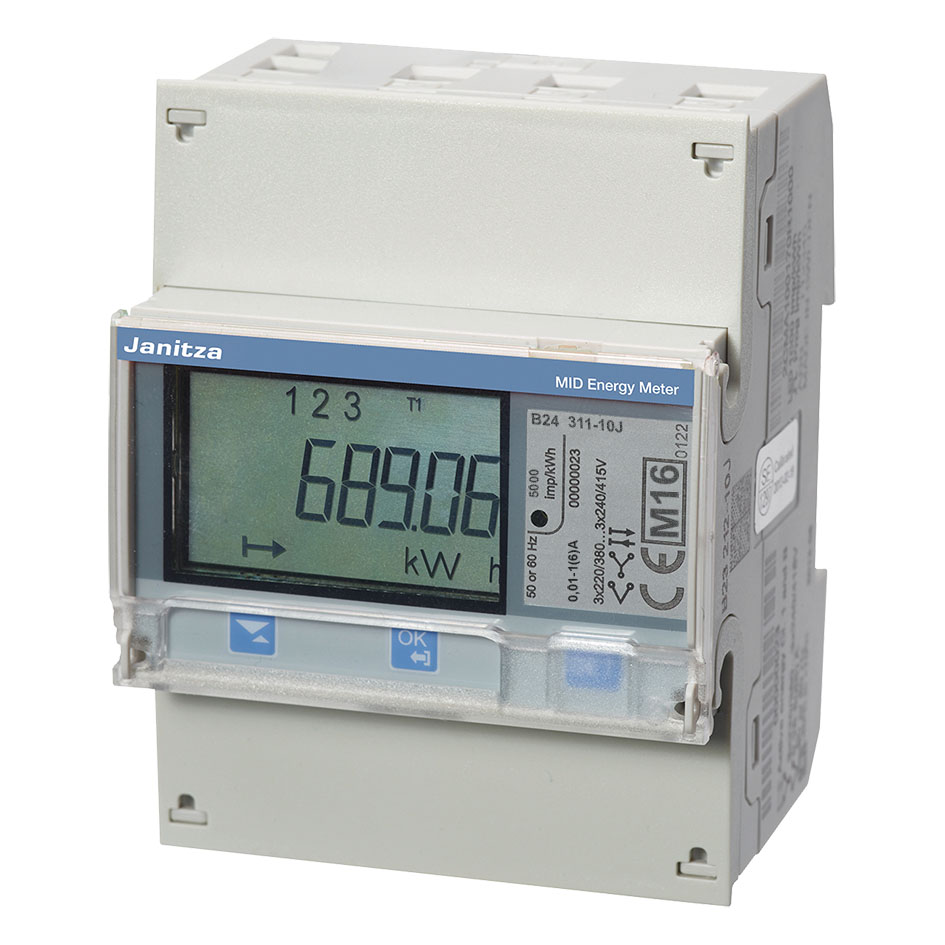counter: (105, 72, 745, 911)
counter_screen: (158, 359, 509, 621)
